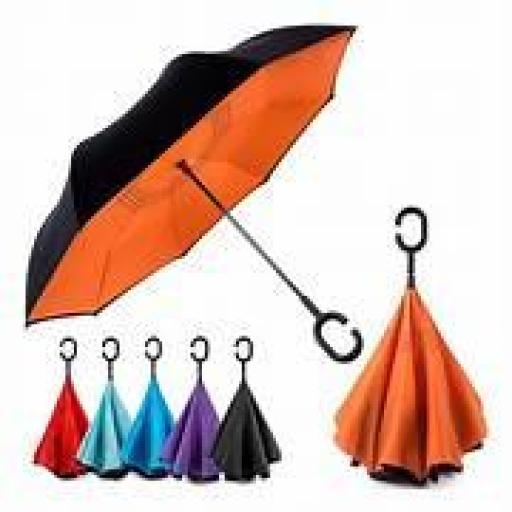guarda_chuva: (23, 20, 361, 361), (330, 204, 486, 484)
